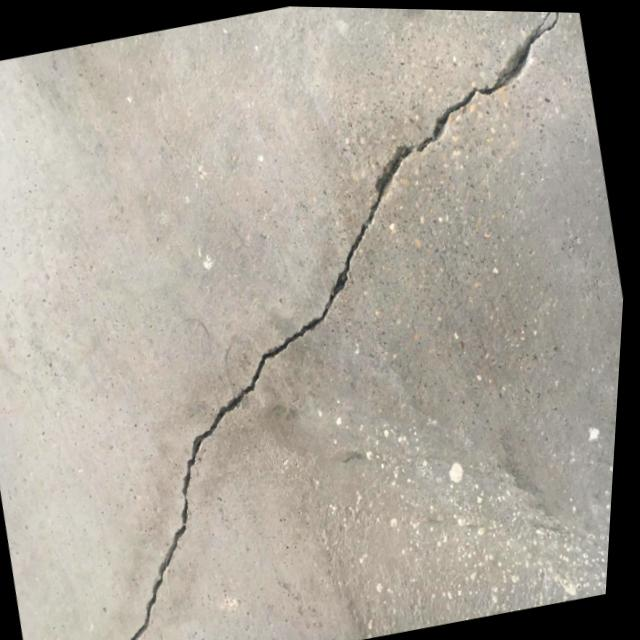Crack: (212, 75, 545, 373), (40, 352, 330, 640), (459, 8, 593, 98)
